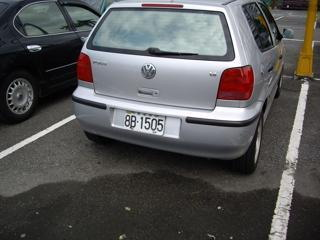plate: (121, 109, 168, 138)
